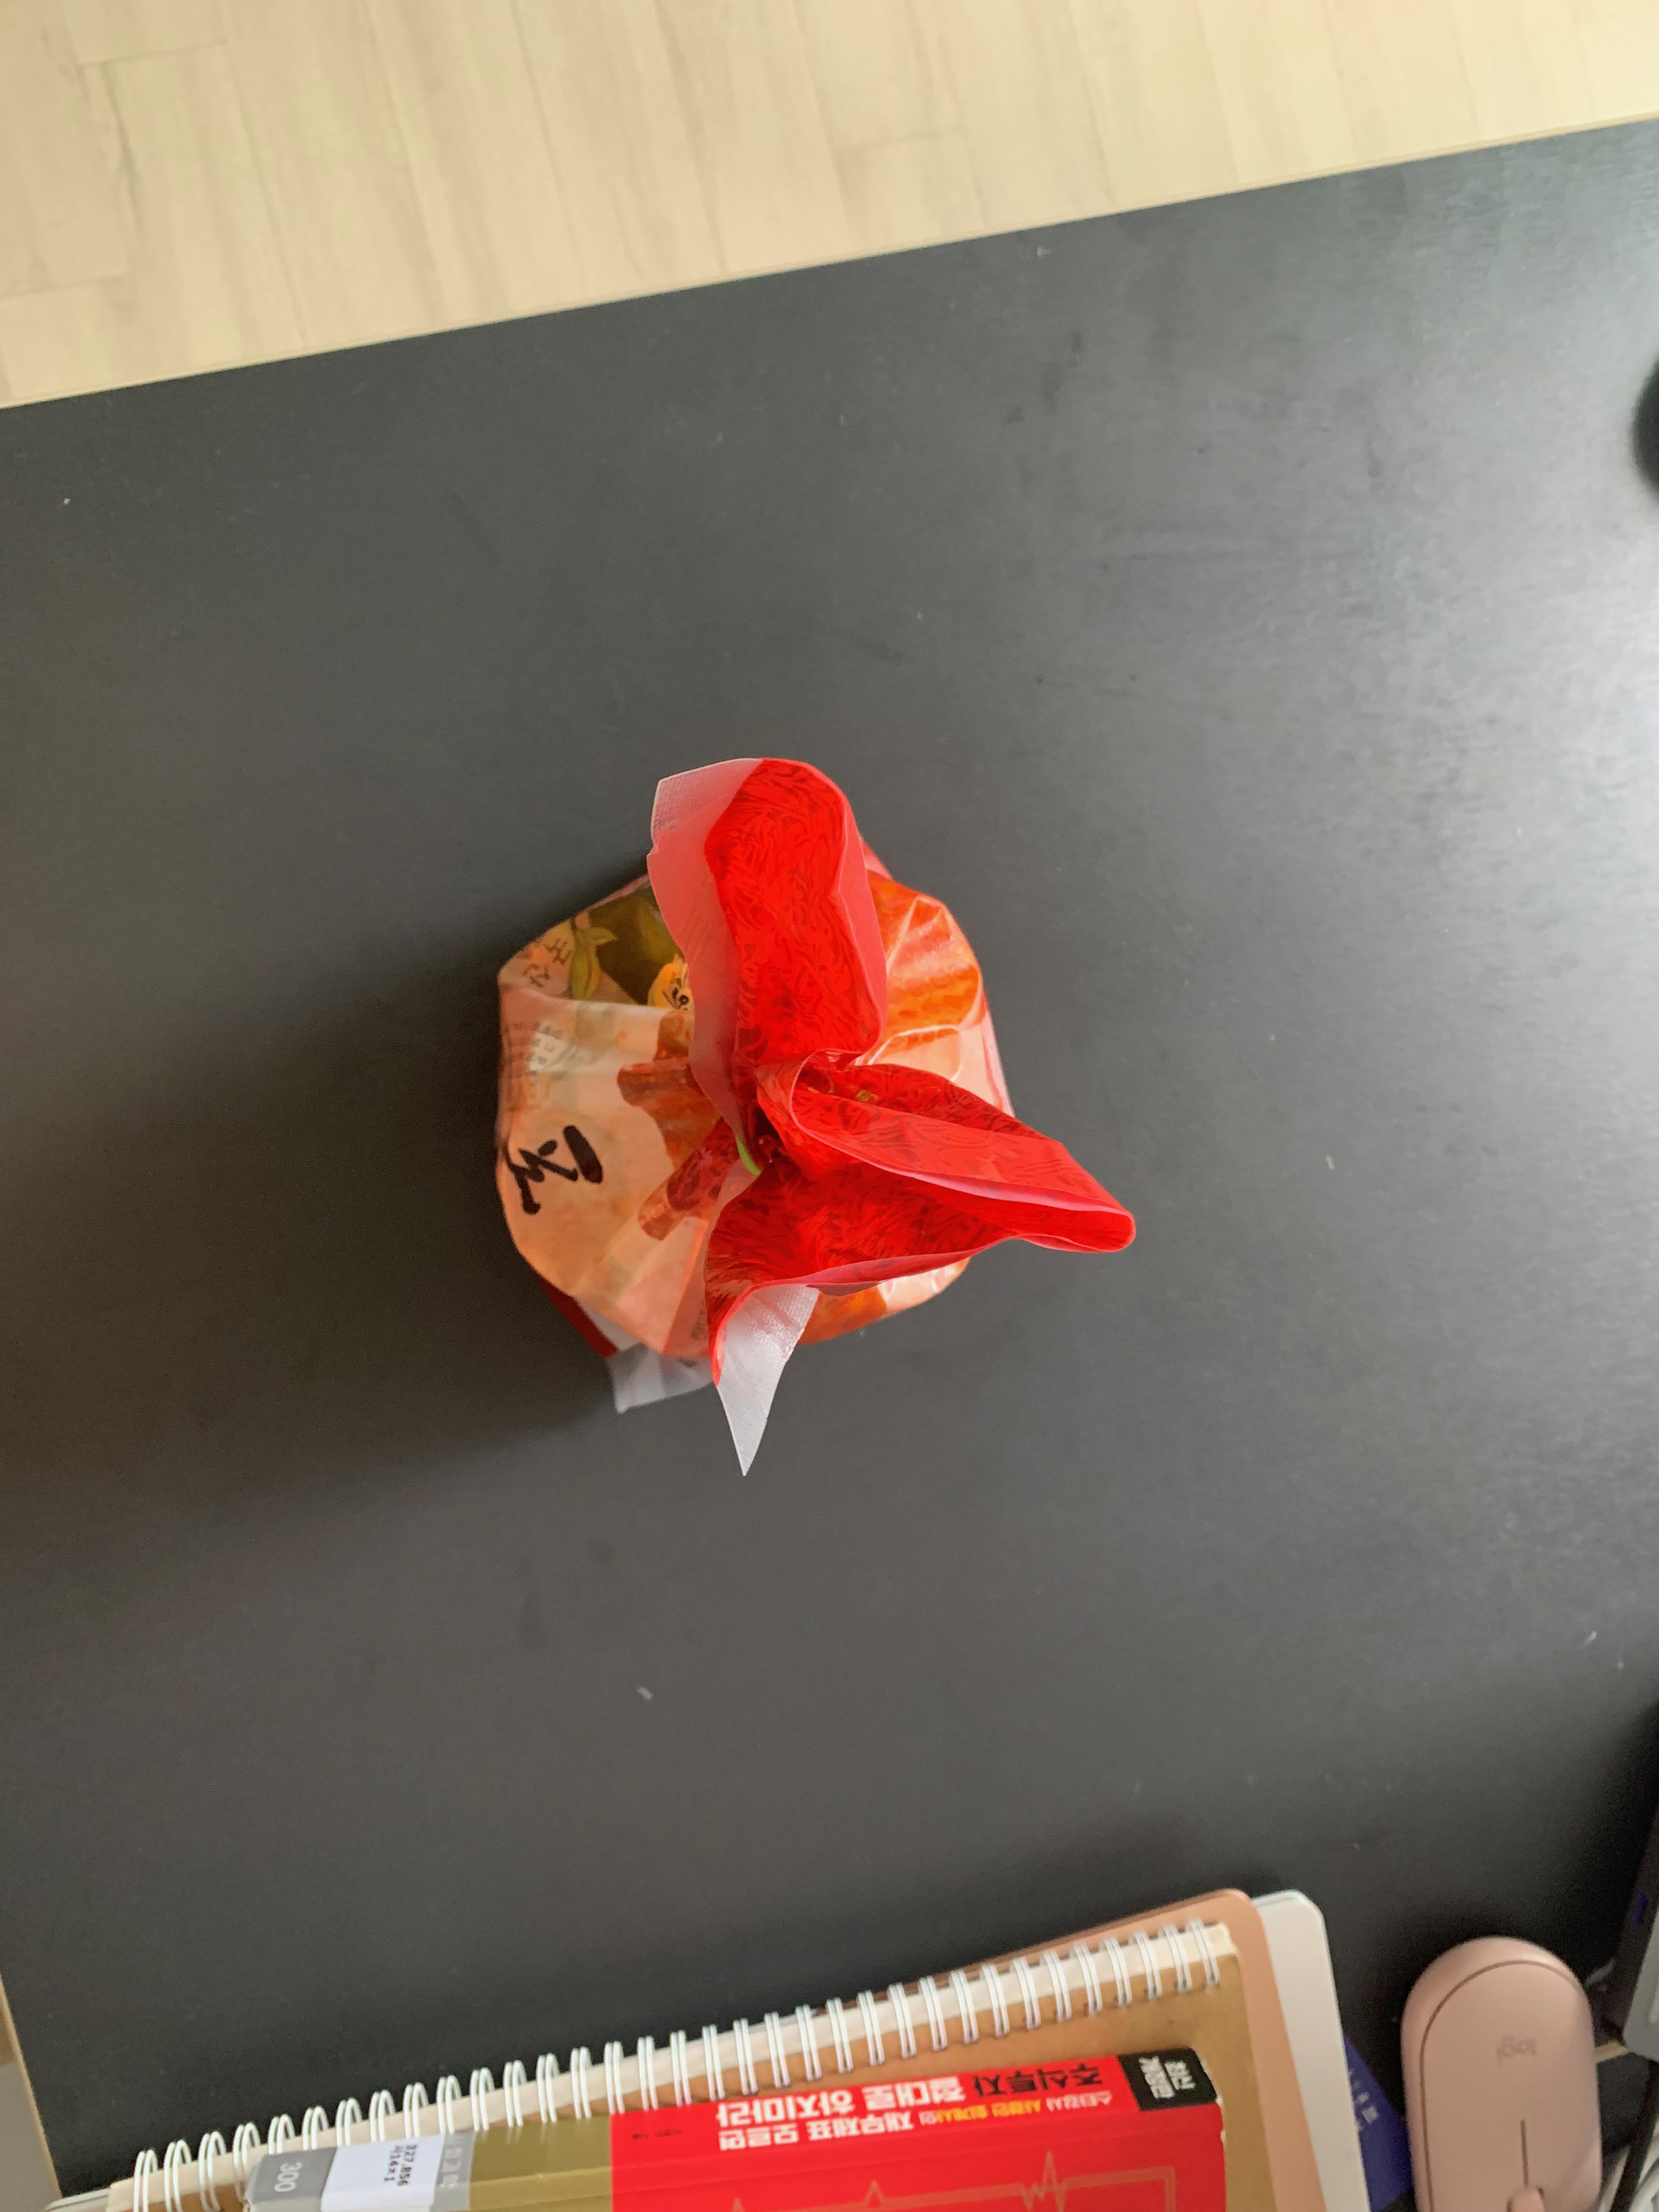kimchi: (495, 758, 1136, 1383)
